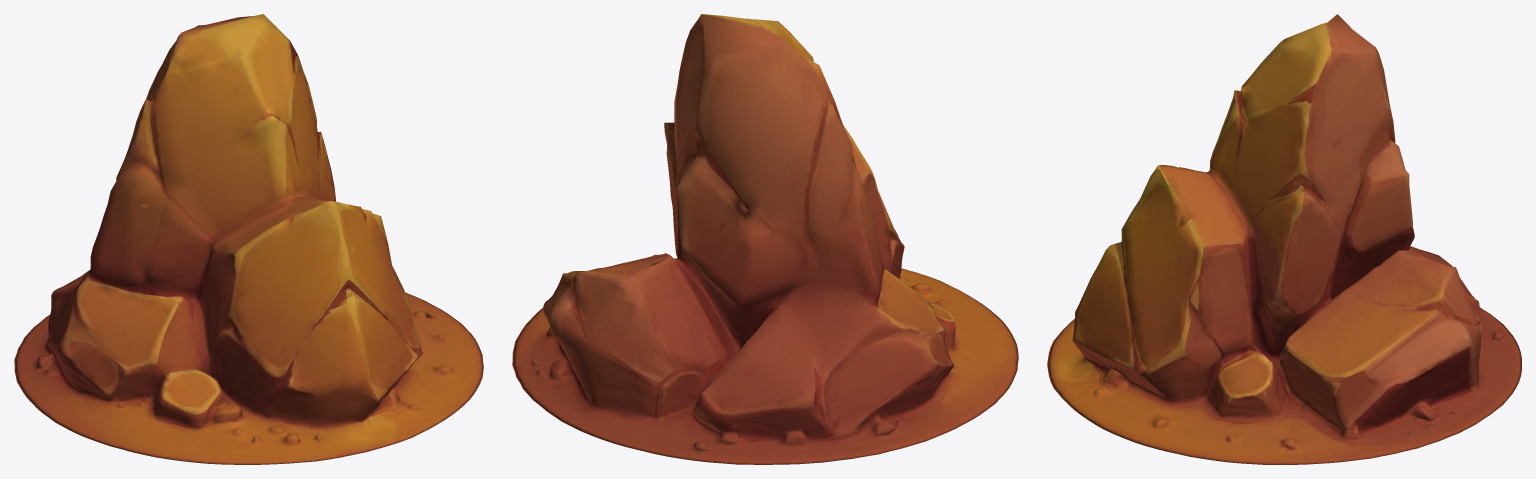
File: Rock.fbx
The picture shows the model from 3 angles, left to right: view 1: azimuth 30°, elevation 25°; view 2: azimuth 150°, elevation 25°; view 3: azimuth 270°, elevation 25°; orthographic projection. The views are drawn at different scales.
Visible parts, largest first — view 1: tripo_node_68ad51ed; view 2: tripo_node_68ad51ed; view 3: tripo_node_68ad51ed.
Boxes of the visible parts, x1,y1,x2,y2 form: tripo_node_68ad51ed: (14, 14, 483, 464); tripo_node_68ad51ed: (512, 14, 1018, 464); tripo_node_68ad51ed: (1047, 14, 1521, 464).
Bounding box in the file's own units: 0.9966 × 0.7742 × 0.9946.
